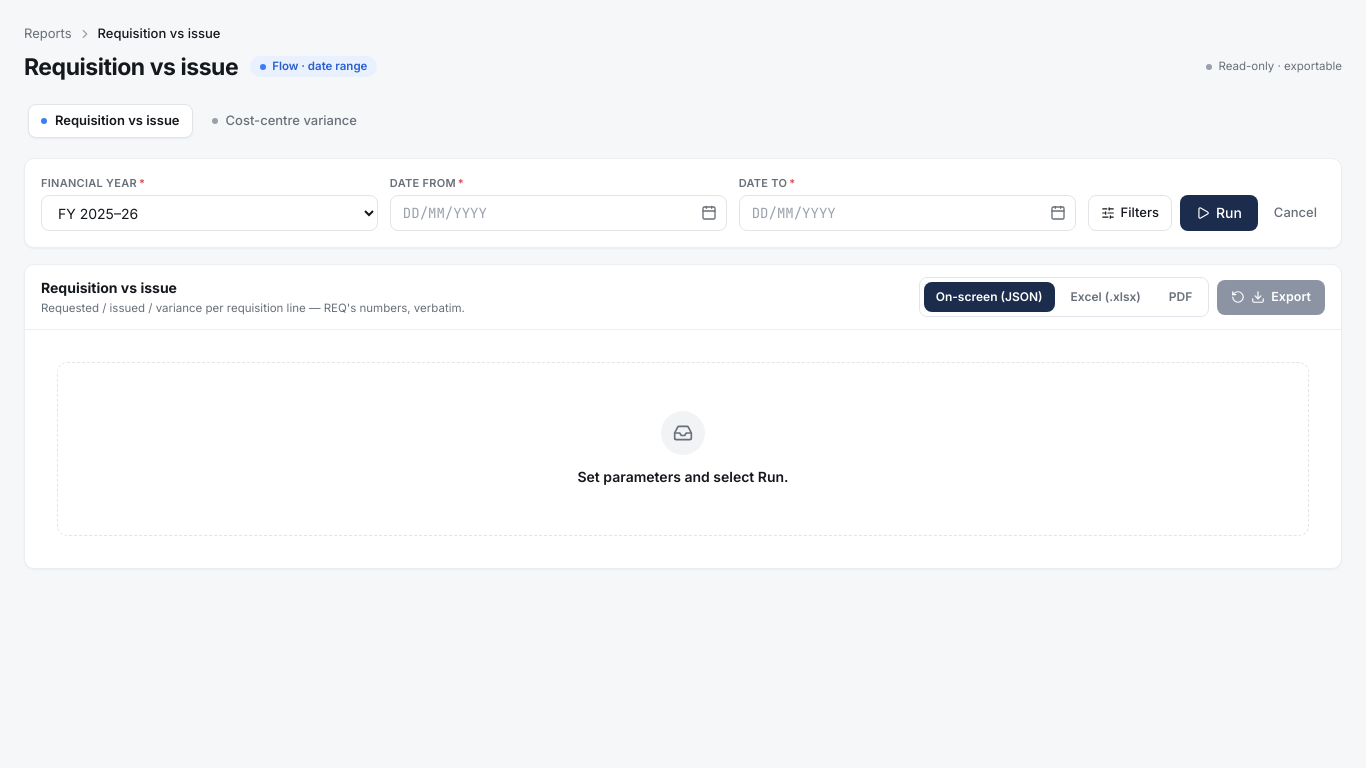
Test case: REQ + CC reports — switcher (FR-RPT-024/025, spec §3, §9) › switches endpoints and preserves project across tabs
This screenshot has width=1366, height=768.
Click the button with test id "report-filters-toggle". click: (1130, 213)
box: [1088, 195, 1172, 231]
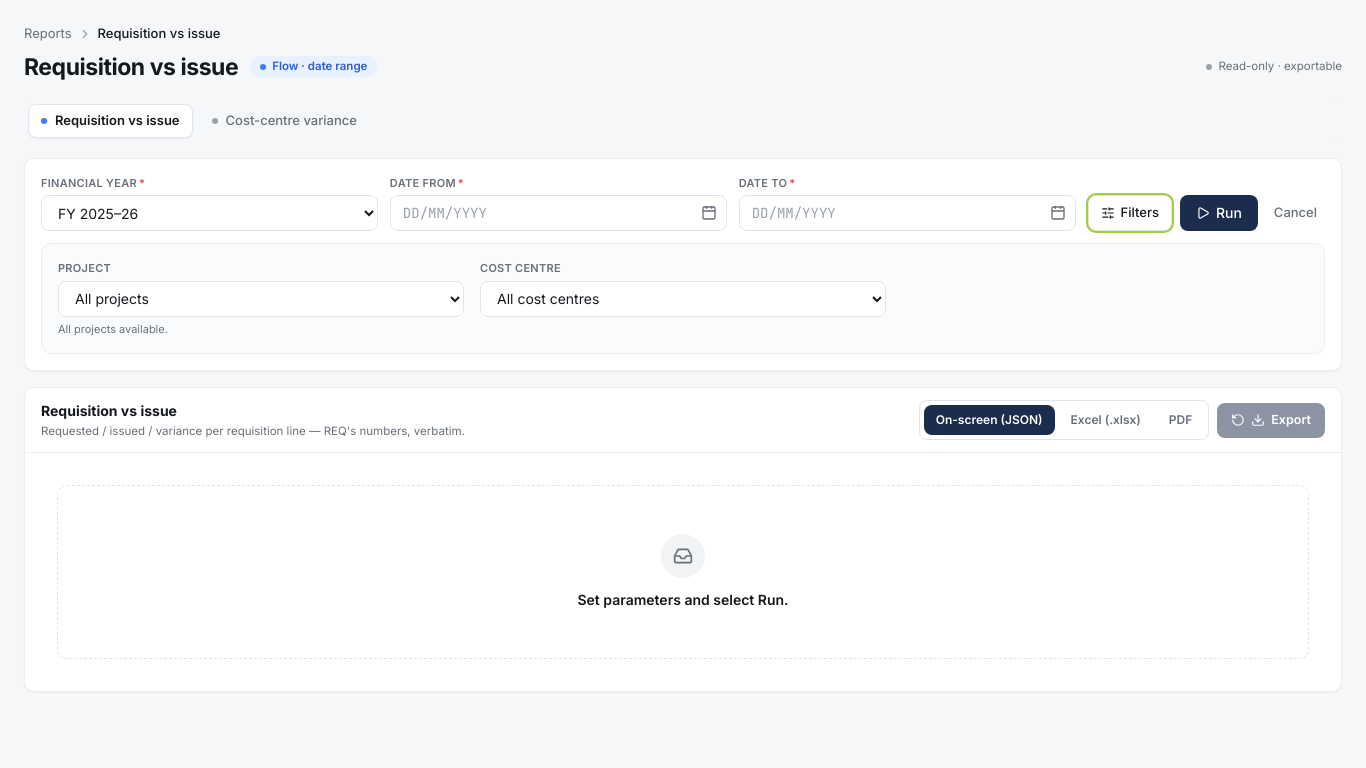
Expected: the dropdown with test id "param-project" is shown
Select "BR-04 · Bridge-04 — Buriganga" in the dropdown with test id "param-project". click: (261, 298)
box: [58, 280, 464, 316]
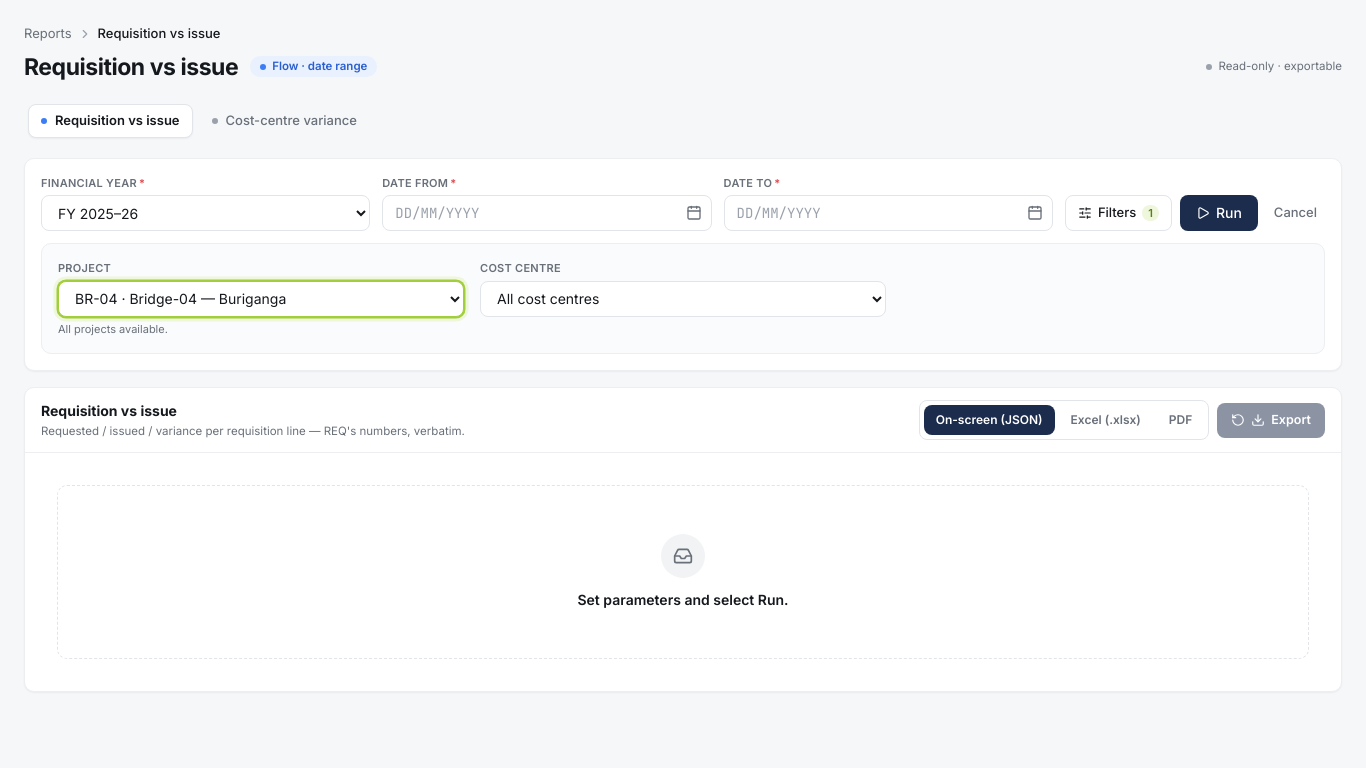
Type "01/04/2026" into the field labelled "Date from*". click: (547, 213)
box: [382, 195, 712, 231]
Type "30/06/2026" into the field labelled "Date to*". click: (888, 213)
box: [724, 195, 1053, 231]
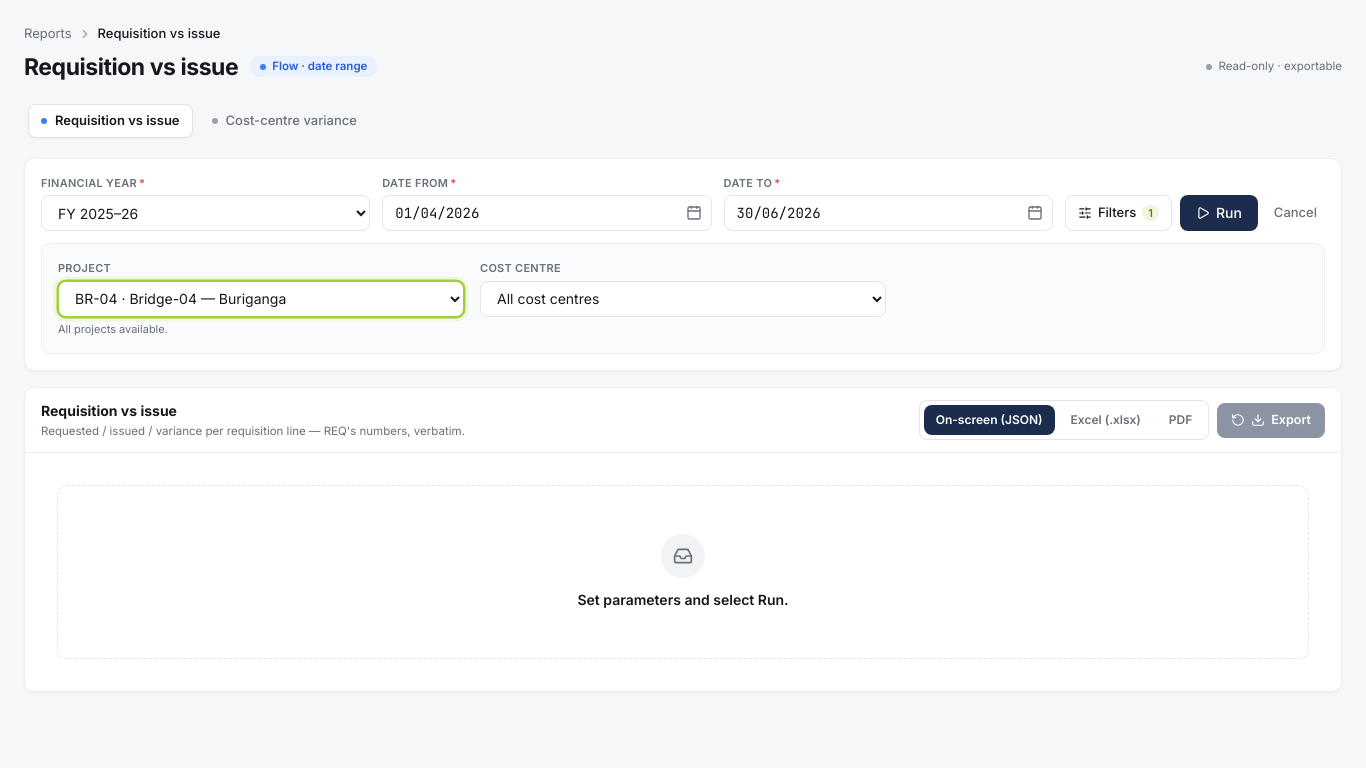
Click the button with test id "report-run". click: (1219, 213)
box: [1180, 195, 1258, 231]
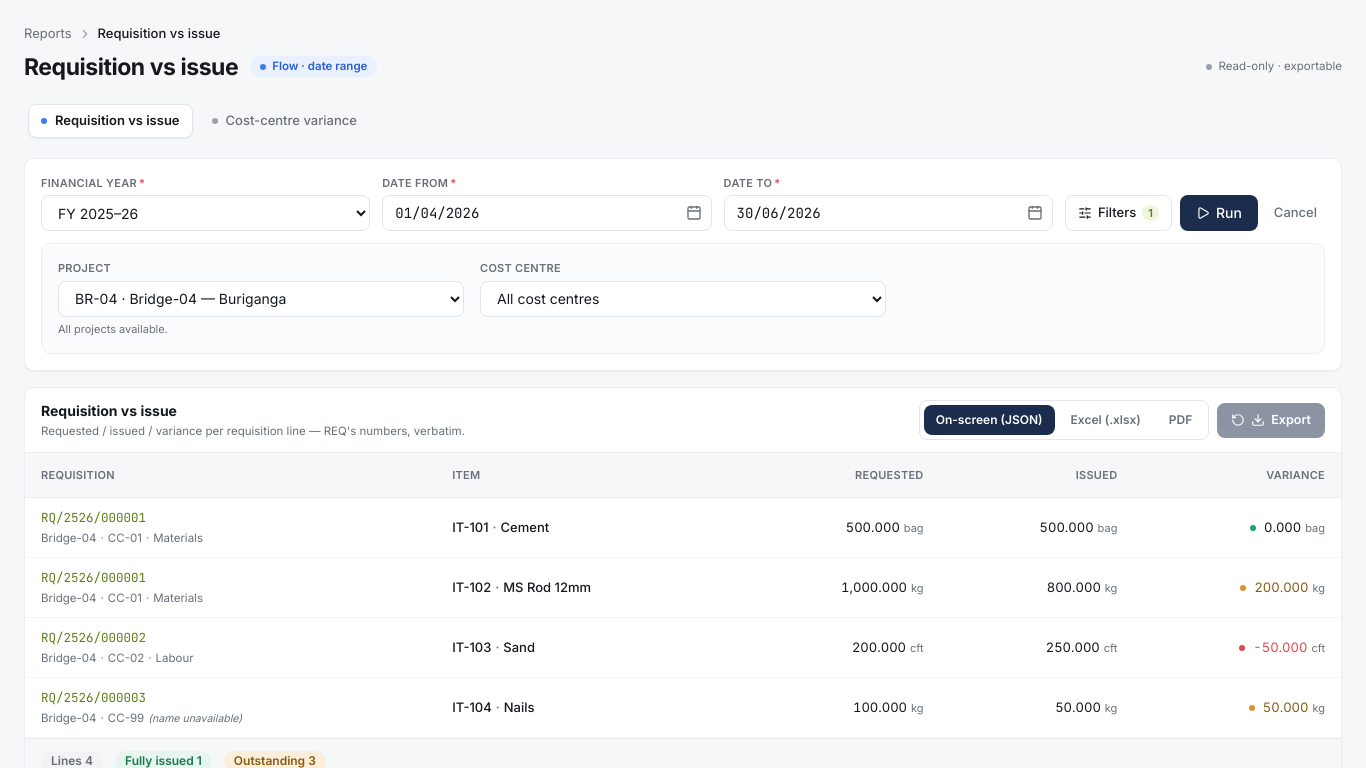
Click the tab with test id "rcc-tab-COST_CENTRE_VARIANCE". click: (284, 121)
box: [198, 104, 370, 138]
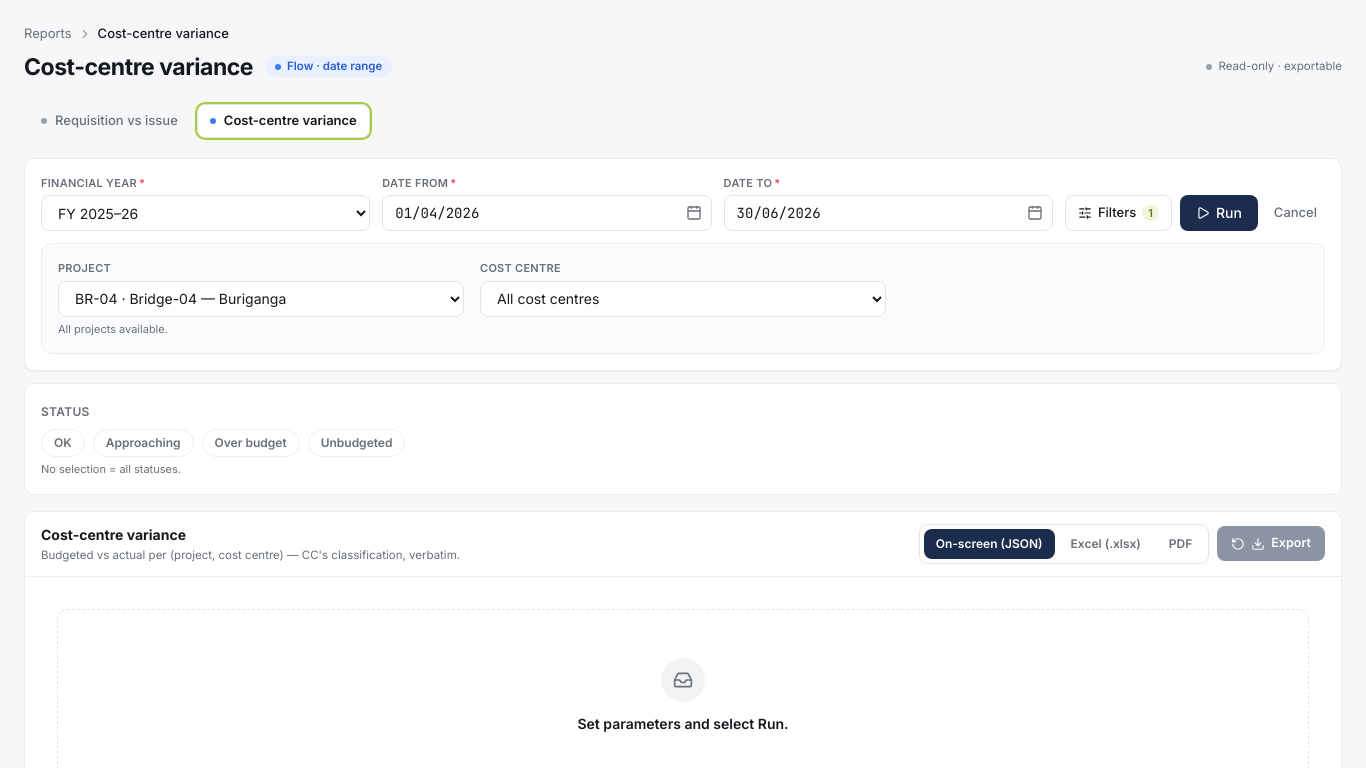
Expected: the element with test id "rcc-ccv-filters" is shown, [24, 383, 1342, 494]
Click the button with test id "report-run". click: (1219, 213)
box: [1180, 195, 1258, 231]
(page scrolled)
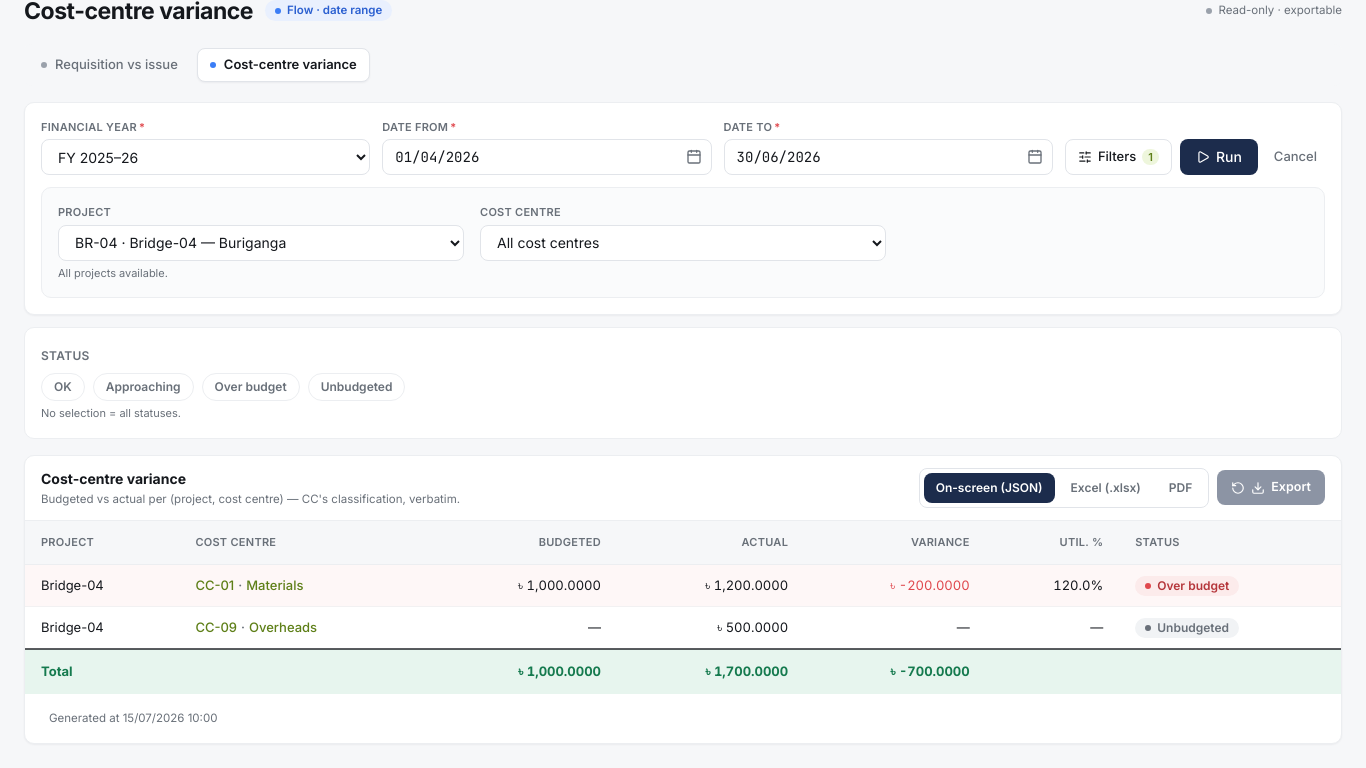
Expected: the element with test id "rcc-ccv-table" is shown, [25, 521, 1341, 743]
